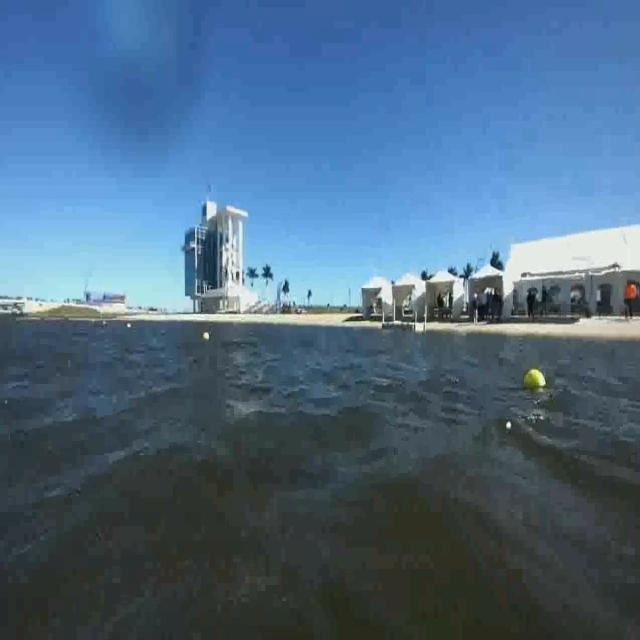yellow-buoy: (526, 368, 548, 389), (202, 332, 212, 344)
